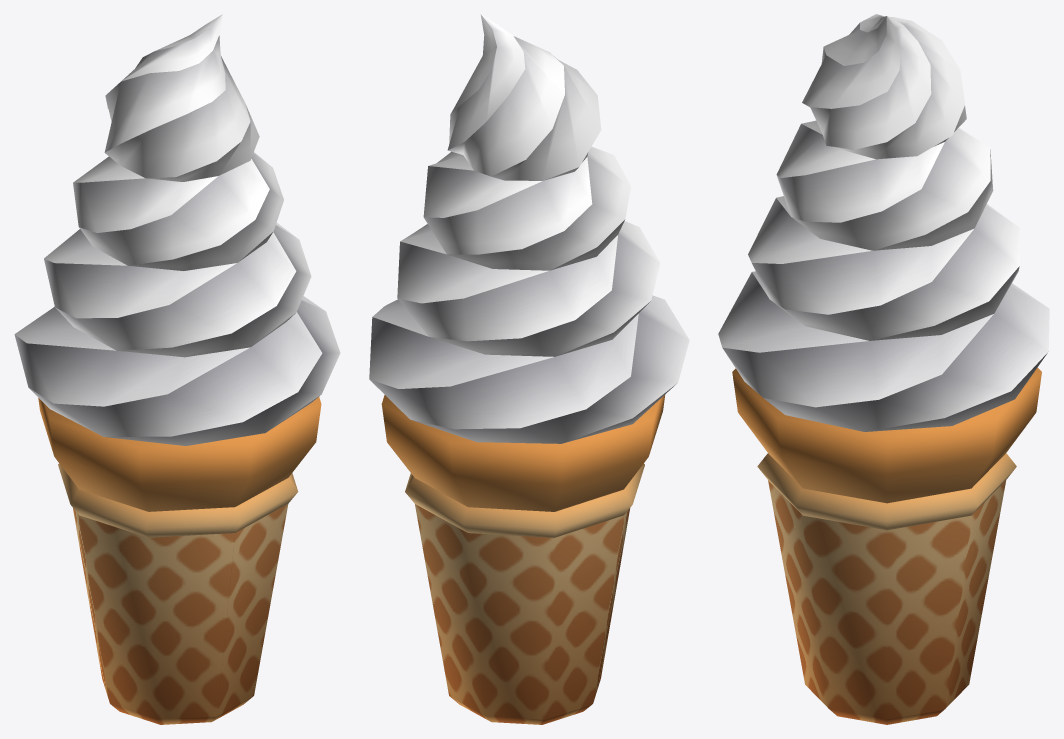
The model's file is m_Softserve01.fbx.
The picture shows the model from 3 angles, left to right: view 1: azimuth 30°, elevation 25°; view 2: azimuth 150°, elevation 25°; view 3: azimuth 270°, elevation 25°; orthographic projection. The views are drawn at different scales.
Visible parts, largest first — view 1: m_Softserve01; view 2: m_Softserve01; view 3: m_Softserve01.
Boxes of the visible parts, bbox=[...] form: m_Softserve01: bbox=[14, 14, 340, 724]; m_Softserve01: bbox=[369, 14, 689, 724]; m_Softserve01: bbox=[718, 14, 1049, 724].
Bounding box in the file's own units: 11.45 × 26 × 11.13.
